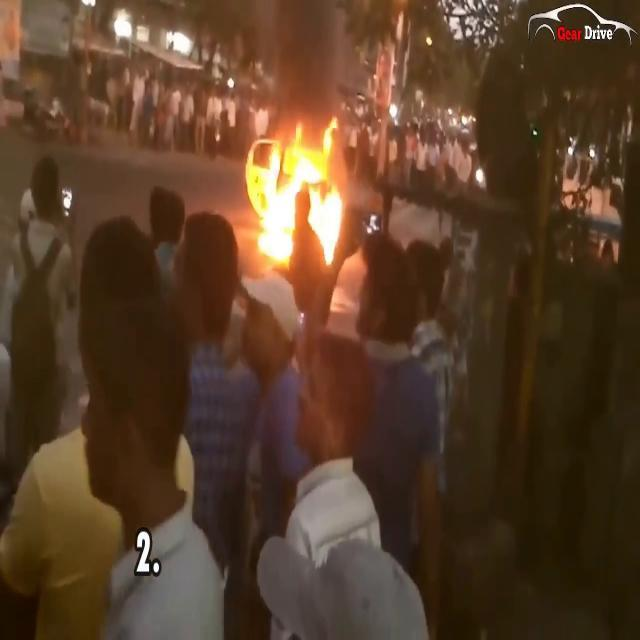Fire: (240, 119, 352, 270)
Smoke: (268, 0, 348, 128)
